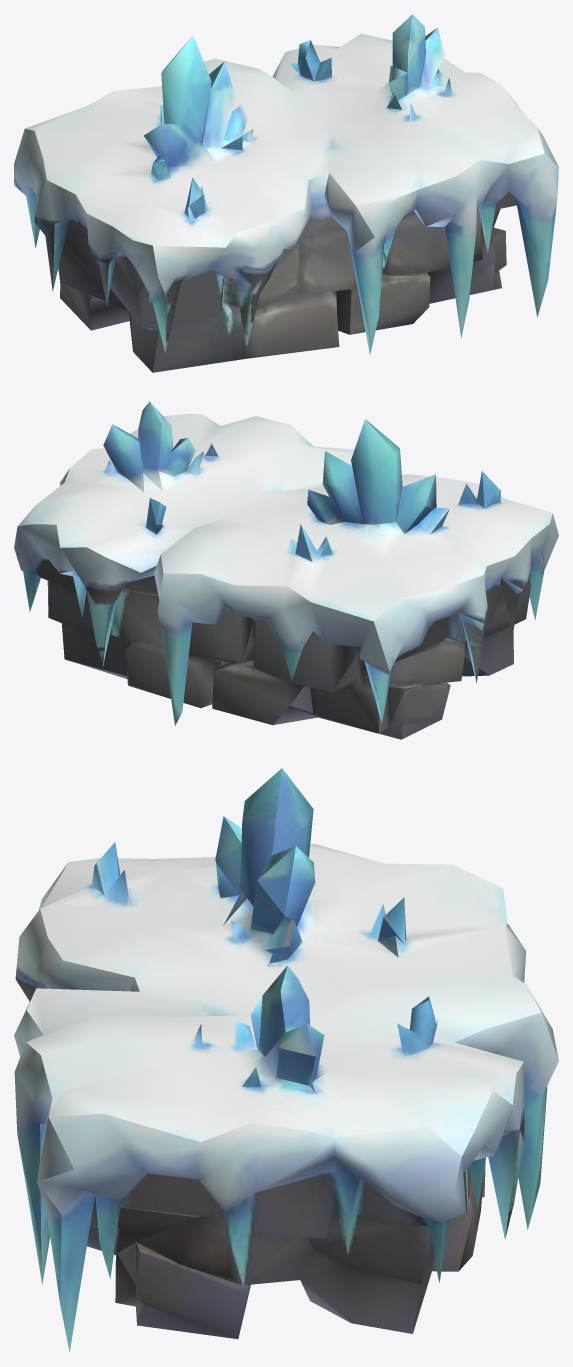
The model's file is d_givre_cime.glb.
The picture shows the model from 3 angles, top to bottom: view 1: azimuth 30°, elevation 25°; view 2: azimuth 150°, elevation 25°; view 3: azimuth 270°, elevation 25°; orthographic projection. The views are drawn at different scales.
Visible parts, largest first — view 1: geometry_0; view 2: geometry_0; view 3: geometry_0.
Part boxes in pixels (box(x1,y1,x2,y2)): geometry_0: box(14, 14, 558, 372); geometry_0: box(14, 401, 558, 739); geometry_0: box(14, 768, 558, 1351).
Size of the model in its own units: 0.9986 by 0.6152 by 0.7518.
1 material, 1 textured.
